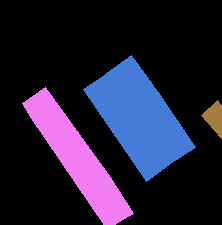parkingspot: (22, 87, 133, 225), (106, 55, 195, 163), (83, 73, 170, 181), (201, 100, 222, 139)
